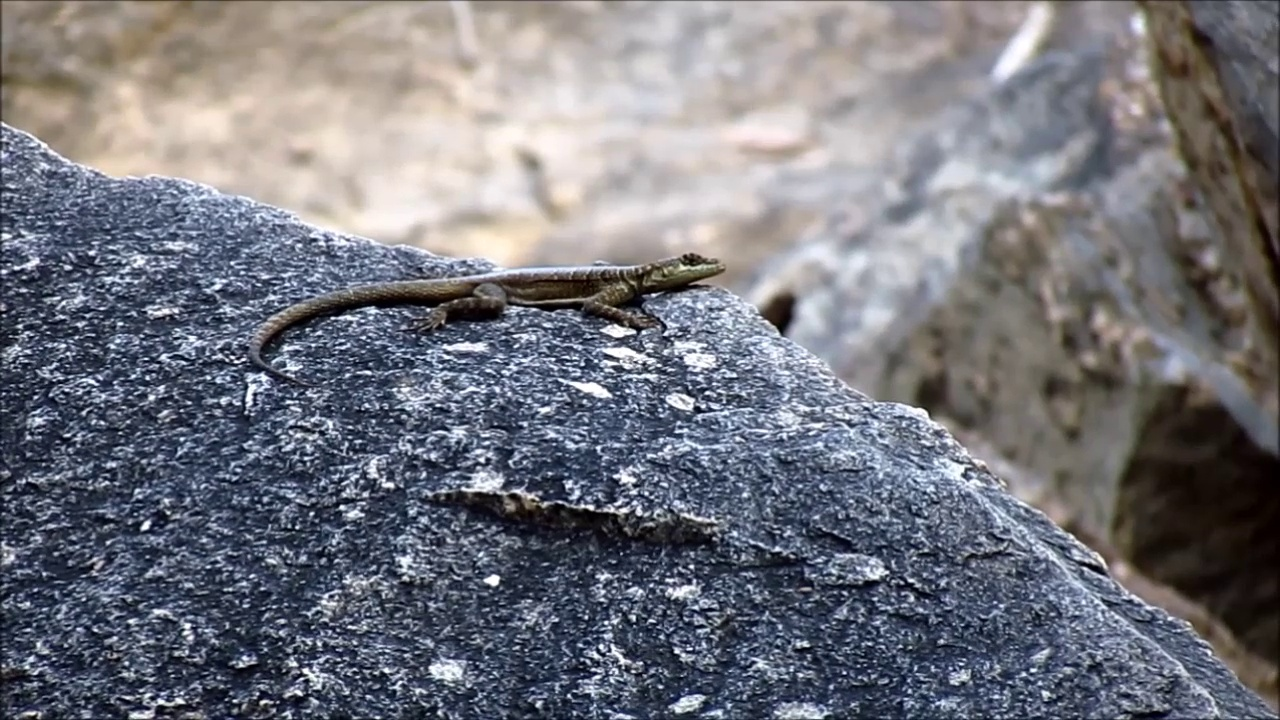body: (246, 264, 652, 384)
head: (642, 252, 727, 290)
